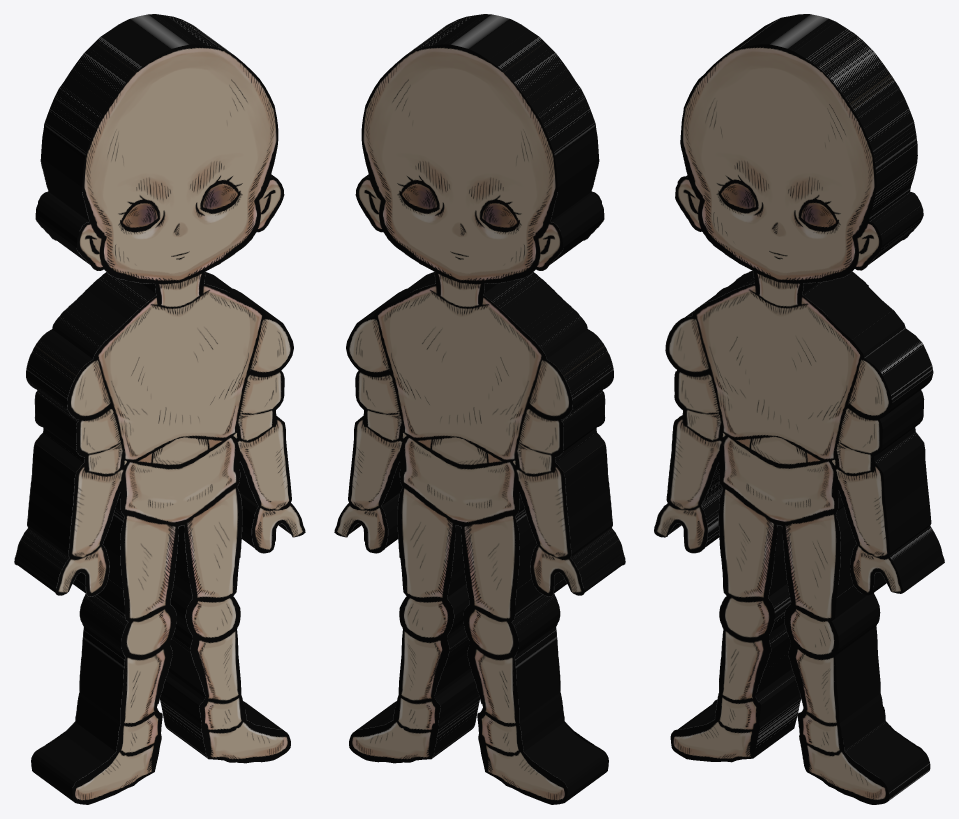
Rendered from RealDollStand_Base.fbx.
3 views of the same model, side by side, from view 1: azimuth 30°, elevation 25°; view 2: azimuth 150°, elevation 25°; view 3: azimuth 330°, elevation 25° (orthographic).
Parts seen in each view (by area): view 1: RealDollStand_Base; view 2: RealDollStand_Base; view 3: RealDollStand_Base.
Part boxes in pixels (x1,y1,x2,y2): RealDollStand_Base: (14, 14, 305, 804); RealDollStand_Base: (334, 14, 625, 804); RealDollStand_Base: (654, 14, 944, 804).
Size of the model in its own units: 34.99 by 98.55 by 10.
Materials: 1 (1 with a texture image).
